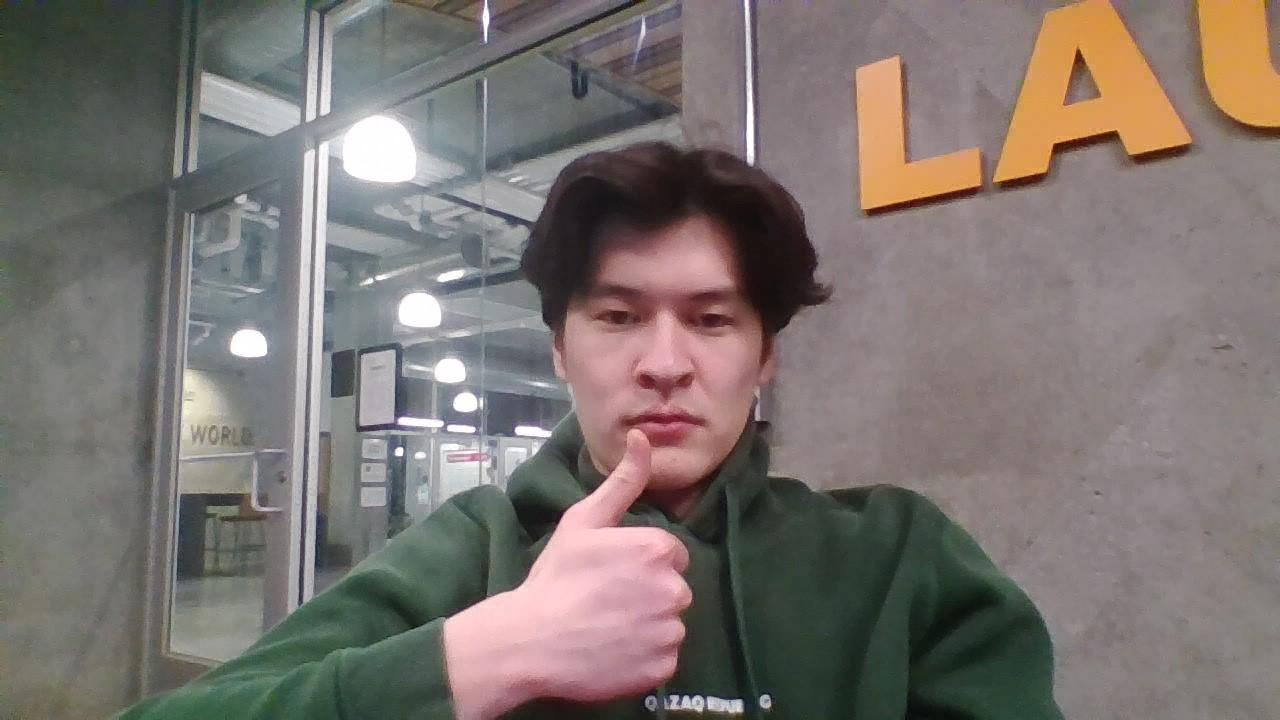thumbsUp: (531, 426, 696, 703)
